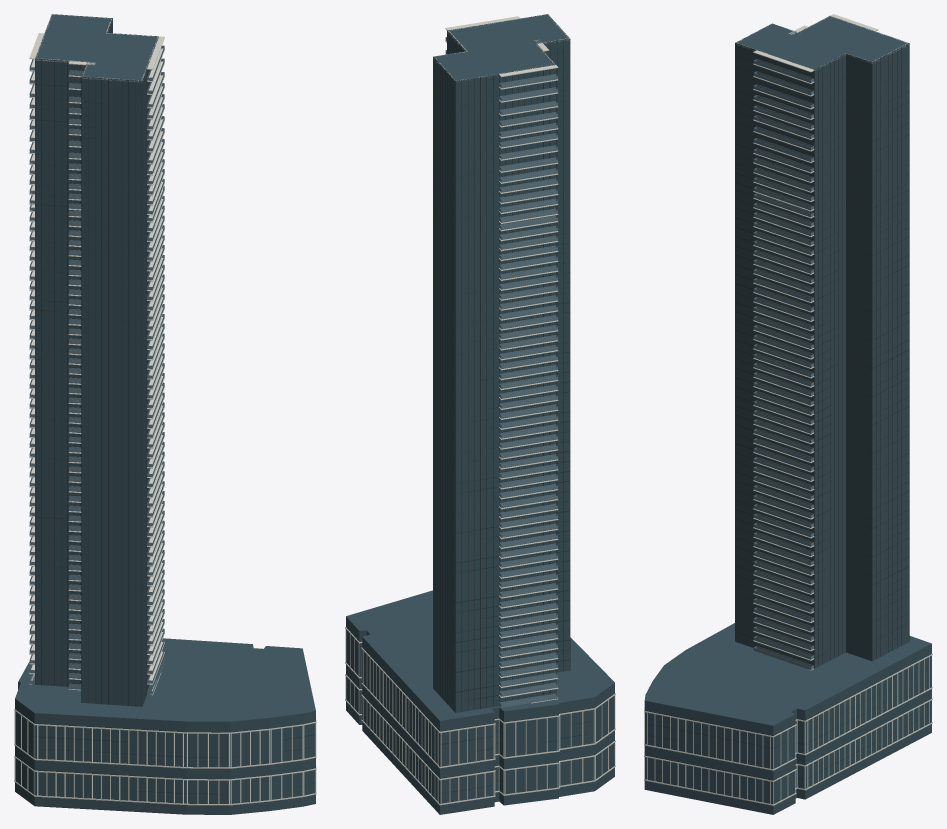
File: mcity-m4-future-detail.glb
3 views of the same model, side by side, from view 1: azimuth 30°, elevation 25°; view 2: azimuth 150°, elevation 25°; view 3: azimuth 270°, elevation 25° (orthographic). The views are drawn at different scales.
Visible parts, largest first — view 1: Source S-shaped tower shell, Inherited traced podium envelope, glazed exterior, Balcony opaque guard bands, Curtain wall vertical mullions, Traced partial projecting balcony slabs, Podium vertical metal fins, Podium stacked-volume upper frame, Podium stacked-volume lower frame, Podium glazing floor rails, Tower floor spandrels; view 2: Source S-shaped tower shell, Inherited traced podium envelope, glazed exterior, Balcony opaque guard bands, Curtain wall vertical mullions, Traced partial projecting balcony slabs, Podium vertical metal fins, Tower floor spandrels, Podium stacked-volume upper frame, Podium stacked-volume lower frame, Podium glazing floor rails; view 3: Source S-shaped tower shell, Inherited traced podium envelope, glazed exterior, Balcony opaque guard bands, Curtain wall vertical mullions, Traced partial projecting balcony slabs, Podium vertical metal fins, Tower floor spandrels, Podium stacked-volume upper frame, Podium stacked-volume lower frame, Podium glazing floor rails.
Part boxes in pixels (left/top/right/bottom): Source S-shaped tower shell: left=35, top=14, right=158, bottom=706; Inherited traced podium envelope, glazed exterior: left=15, top=638, right=315, bottom=814; Balcony opaque guard bands: left=29, top=45, right=164, bottom=694; Curtain wall vertical mullions: left=35, top=21, right=149, bottom=706; Traced partial projecting balcony slabs: left=29, top=33, right=164, bottom=695; Podium vertical metal fins: left=14, top=709, right=316, bottom=804; Podium stacked-volume upper frame: left=14, top=708, right=316, bottom=780; Podium stacked-volume lower frame: left=14, top=744, right=316, bottom=805; Podium glazing floor rails: left=15, top=709, right=315, bottom=814; Tower floor spandrels: left=35, top=14, right=155, bottom=675; Source S-shaped tower shell: left=433, top=14, right=569, bottom=712; Inherited traced podium envelope, glazed exterior: left=346, top=590, right=614, bottom=814; Balcony opaque guard bands: left=445, top=37, right=557, bottom=707; Curtain wall vertical mullions: left=435, top=30, right=570, bottom=712; Traced partial projecting balcony slabs: left=445, top=16, right=558, bottom=703; Podium vertical metal fins: left=345, top=629, right=615, bottom=803; Tower floor spandrels: left=433, top=14, right=569, bottom=700; Podium stacked-volume upper frame: left=345, top=627, right=615, bottom=780; Podium stacked-volume lower frame: left=345, top=662, right=615, bottom=805; Podium glazing floor rails: left=348, top=640, right=613, bottom=813; Source S-shaped tower shell: left=735, top=16, right=909, bottom=668; Inherited traced podium envelope, glazed exterior: left=644, top=623, right=931, bottom=814; Balcony opaque guard bands: left=753, top=59, right=813, bottom=669; Curtain wall vertical mullions: left=735, top=43, right=909, bottom=668; Traced partial projecting balcony slabs: left=753, top=14, right=878, bottom=670; Podium vertical metal fins: left=644, top=656, right=929, bottom=804; Tower floor spandrels: left=735, top=18, right=909, bottom=658; Podium stacked-volume upper frame: left=644, top=653, right=932, bottom=781; Podium stacked-volume lower frame: left=644, top=687, right=932, bottom=805; Podium glazing floor rails: left=645, top=661, right=930, bottom=799.
Size of the model in its own units: 84.3 by 216 by 82.07.
